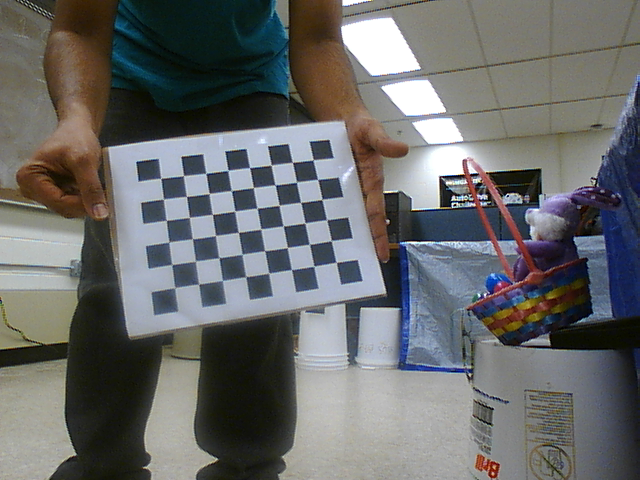bunny: (455, 150, 602, 351)
